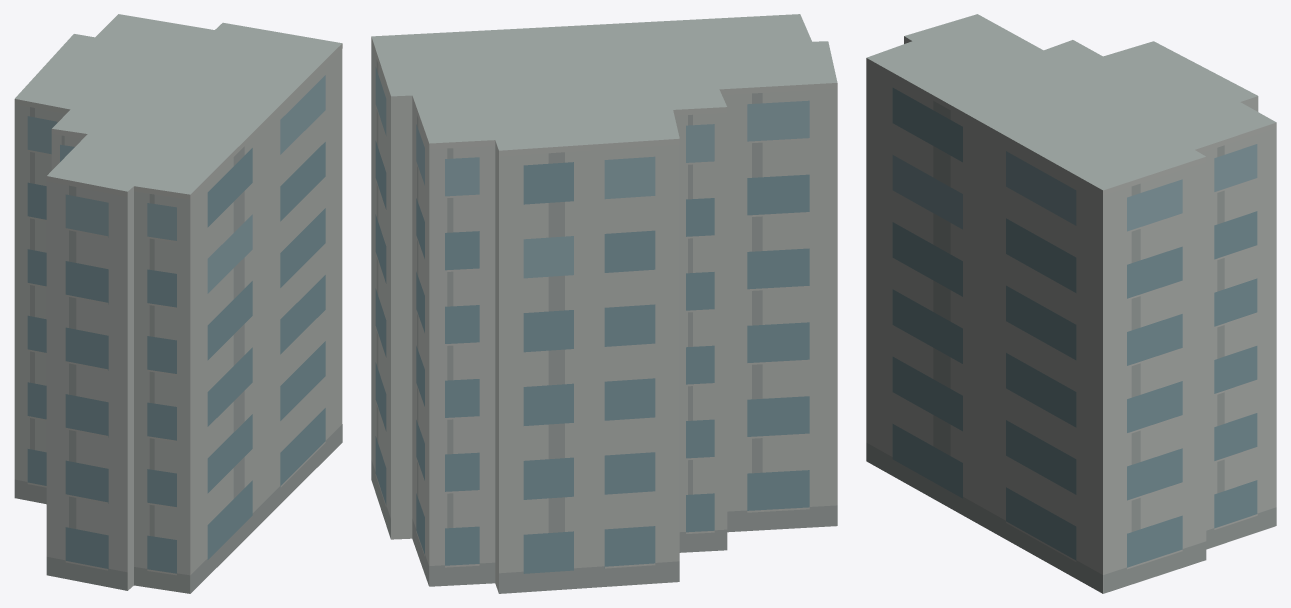
Rendered from survey-upis-32806139.glb.
The picture shows the model from 3 angles, left to right: view 1: azimuth 30°, elevation 25°; view 2: azimuth 150°, elevation 25°; view 3: azimuth 270°, elevation 25°; orthographic projection. The views are drawn at different scales.
Visible parts, largest first — view 1: survey-upis-32806139.tmp; view 2: survey-upis-32806139.tmp; view 3: survey-upis-32806139.tmp.
Boxes of the visible parts, x1,y1,x2,y2 form: survey-upis-32806139.tmp: [14, 14, 342, 593]; survey-upis-32806139.tmp: [371, 14, 837, 593]; survey-upis-32806139.tmp: [866, 14, 1276, 593].
Bounding box in the file's own units: 17.17 × 18.3 × 16.88.
